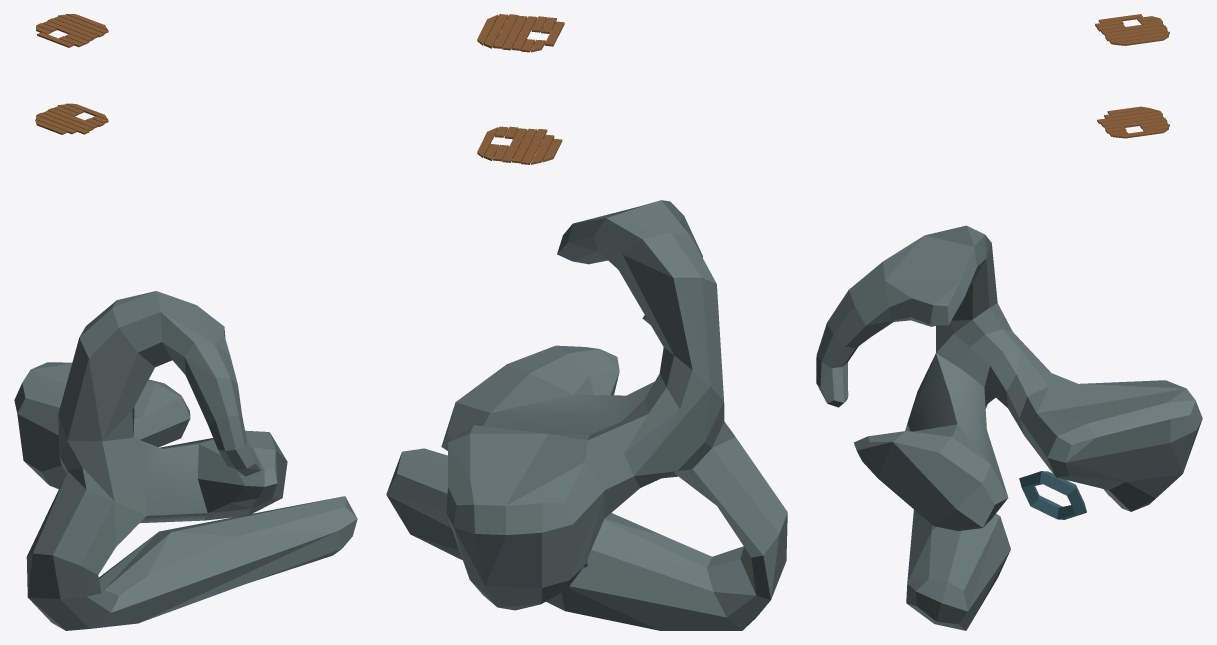
The picture shows the model from 3 angles, left to right: view 1: azimuth 30°, elevation 25°; view 2: azimuth 150°, elevation 25°; view 3: azimuth 270°, elevation 25°; orthographic projection. The views are drawn at different scales.
Parts seen in each view (by area): view 1: Box349_rock_0, Plane182_brown_0, Plane229_brown_0; view 2: Box349_rock_0, Plane182_brown_0, Plane229_brown_0; view 3: Box349_rock_0, Torus039_metal_0, Plane182_brown_0, Plane229_brown_0.
Boxes of the visible parts, x1,y1,x2,y2 form: Box349_rock_0: [14, 291, 357, 630]; Plane182_brown_0: [36, 14, 108, 47]; Plane229_brown_0: [35, 103, 108, 134]; Box349_rock_0: [386, 200, 787, 630]; Plane182_brown_0: [477, 14, 564, 52]; Plane229_brown_0: [477, 126, 562, 164]; Box349_rock_0: [816, 225, 1202, 630]; Torus039_metal_0: [1019, 471, 1086, 519]; Plane182_brown_0: [1095, 14, 1169, 45]; Plane229_brown_0: [1097, 106, 1169, 138].
Size of the model in its own units: 1786 by 2839 by 1848.
